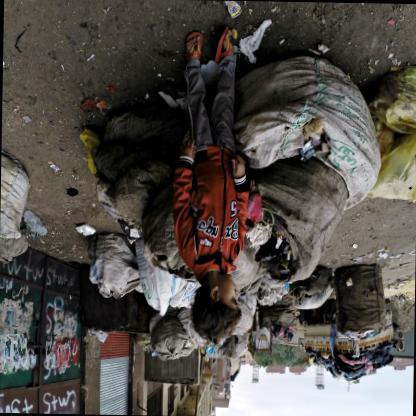Garbage: (240, 44, 378, 186), (353, 123, 415, 215), (357, 43, 415, 134), (82, 237, 122, 320), (73, 69, 118, 128), (24, 205, 53, 243), (66, 202, 94, 236), (226, 1, 254, 20), (66, 178, 86, 200), (42, 147, 58, 170)
